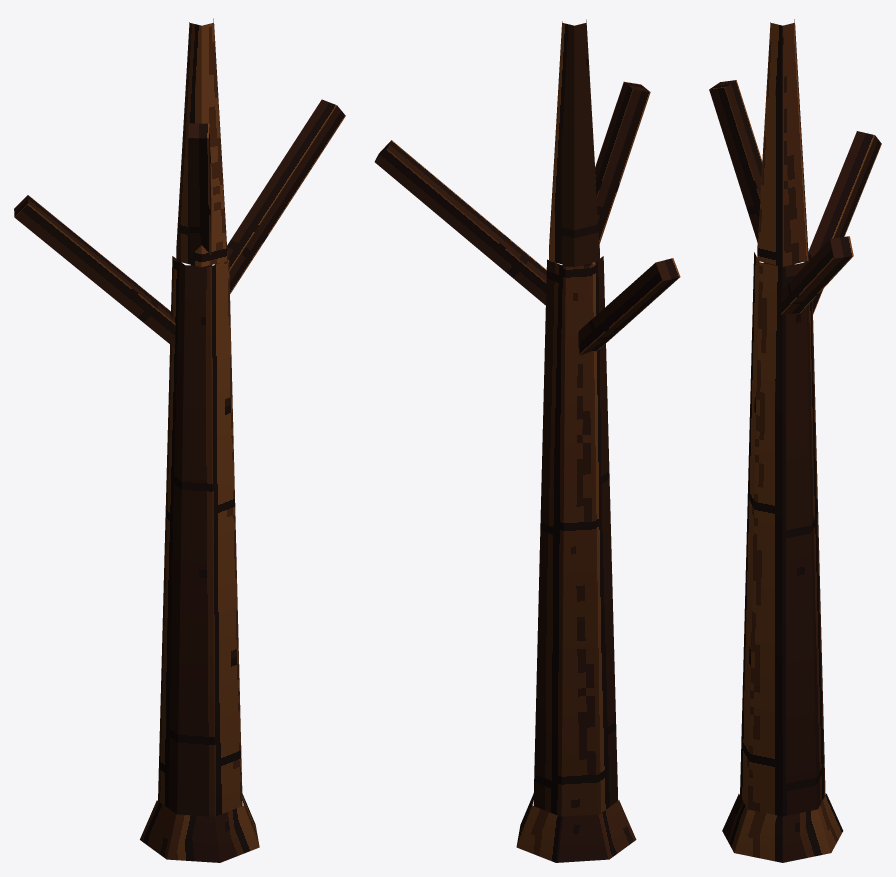
File: oak_1_trunk.glb
3 renders of one model, left to right at view 1: azimuth 30°, elevation 25°; view 2: azimuth 150°, elevation 25°; view 3: azimuth 270°, elevation 25°, orthographic.
Parts seen in each view (by area): view 1: oak_1_trunk; view 2: oak_1_trunk; view 3: oak_1_trunk.
Boxes of the visible parts, left/top/right/bottom form: oak_1_trunk: left=14, top=18, right=345, bottom=862; oak_1_trunk: left=374, top=19, right=680, bottom=862; oak_1_trunk: left=709, top=19, right=881, bottom=862.
Bounding box in the file's own units: 2.11 × 5.22 × 1.
Materials: 1 (1 with a texture image).
